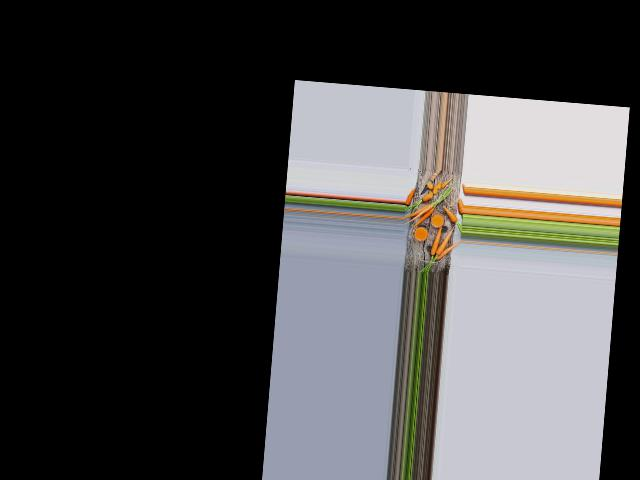carrot: (434, 235, 460, 266)
